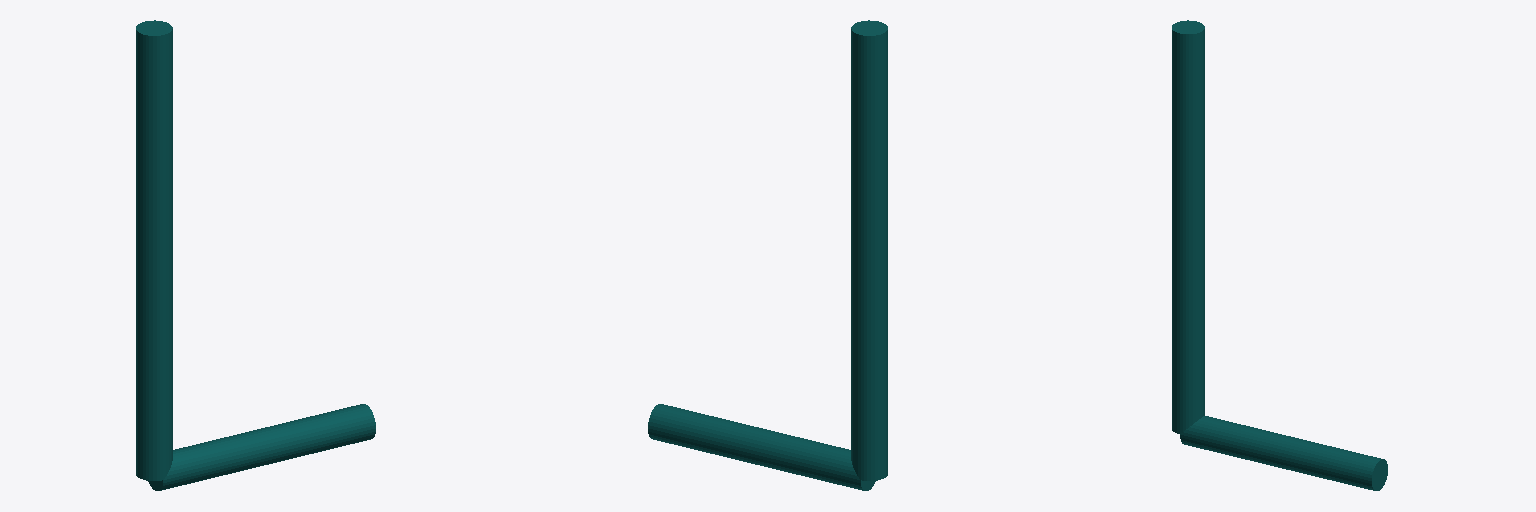
The robot description file, URDF, robot "tool":
<?xml version="1.0"?>
<robot name="tool">
  <contact>
    <lateral_friction value="1"/>
    <rolling_friction value="1"/>
    <spinning_friction value="1"/>

    <inertia_scaling value="1"/>
  </contact>

  <link name="handle">
    <visual>
      <geometry>
        <cylinder length="0.4" radius="0.015"/>
      </geometry>
      <material name="grey">
        <color rgba="0.1 0.4 0.4 1"/>
      </material>
    </visual>
    <inertial>
      <origin rpy="0 0 0" xyz="0 0 0.05"/>
       <mass value="1"/>
       <inertia ixx="0.1" ixy="0.1" ixz="0" iyy="0.1" iyz="0.1" izz="0.1"/>
    </inertial>
    <!-- <collision_margin value="0.006"/> -->
    <!-- <repulsion_stiffness value="800.0"/> -->
    <collision>
      <geometry>
        <cylinder length="0.4" radius="0.015"/>
      </geometry>
      <material name="grey">
        <color rgba="0.1 0.4 0.4 1"/>
      </material>

    </collision>
  </link>

  <link name="head">
    <visual>
      <geometry>
        <cylinder length="0.2" radius="0.015"/>
      </geometry>
      <material name="grey">
        <color rgba="0.1 0.4 0.4 1"/>
      </material>
      <origin rpy="0 1.57075 0" xyz="0.1 0 -0.2"/>
    </visual>
    <inertial>
      <origin rpy="0 0 0" xyz="0 0 0.05"/>
       <mass value="1"/>
       <inertia ixx="0.1" ixy="0.1" ixz="0.1" iyy="0.1" iyz="0.1" izz="0.1"/>
    </inertial>
    <!-- <collision_margin value="0.006"/> -->
    <!-- <repulsion_stiffness value="800.0"/> -->
    <collision>
      <geometry>
        <cylinder length="0.2" radius="0.015"/>
      </geometry>
      <material name="grey">
        <color rgba="0.1 0.4 0.4 1"/>
      </material>
      <origin rpy="0 1.57075 0" xyz="0.1 0 -0.2"/>
    </collision>
  </link>

  <joint name="handle_to_head" type="fixed">
    <parent link="handle"/>
    <child link="head"/>
    <origin xyz="0 0 0 "/>
  </joint>

</robot>

--- Render facts (derived) ---
The picture shows the robot from 3 angles, left to right: view 1: azimuth 30°, elevation 25°; view 2: azimuth 150°, elevation 25°; view 3: azimuth 330°, elevation 25°; orthographic projection.
Model tool with 2 links and 1 joints (1 fixed), rooted at handle, posed every joint at zero.
Links seen in each view (by area): view 1: handle, head; view 2: handle, head; view 3: handle, head.
Boxes of the visible links, box(x1,y1,x2,y2) form: handle: box(136, 20, 172, 480); head: box(148, 404, 375, 490); handle: box(851, 20, 887, 480); head: box(648, 404, 875, 490); handle: box(1172, 20, 1204, 433); head: box(1180, 416, 1387, 490).
Size in the robot's own frame: 0.215 by 0.03 by 0.415 metres.
Geometry: primitives only (box / cylinder / sphere), no mesh files.